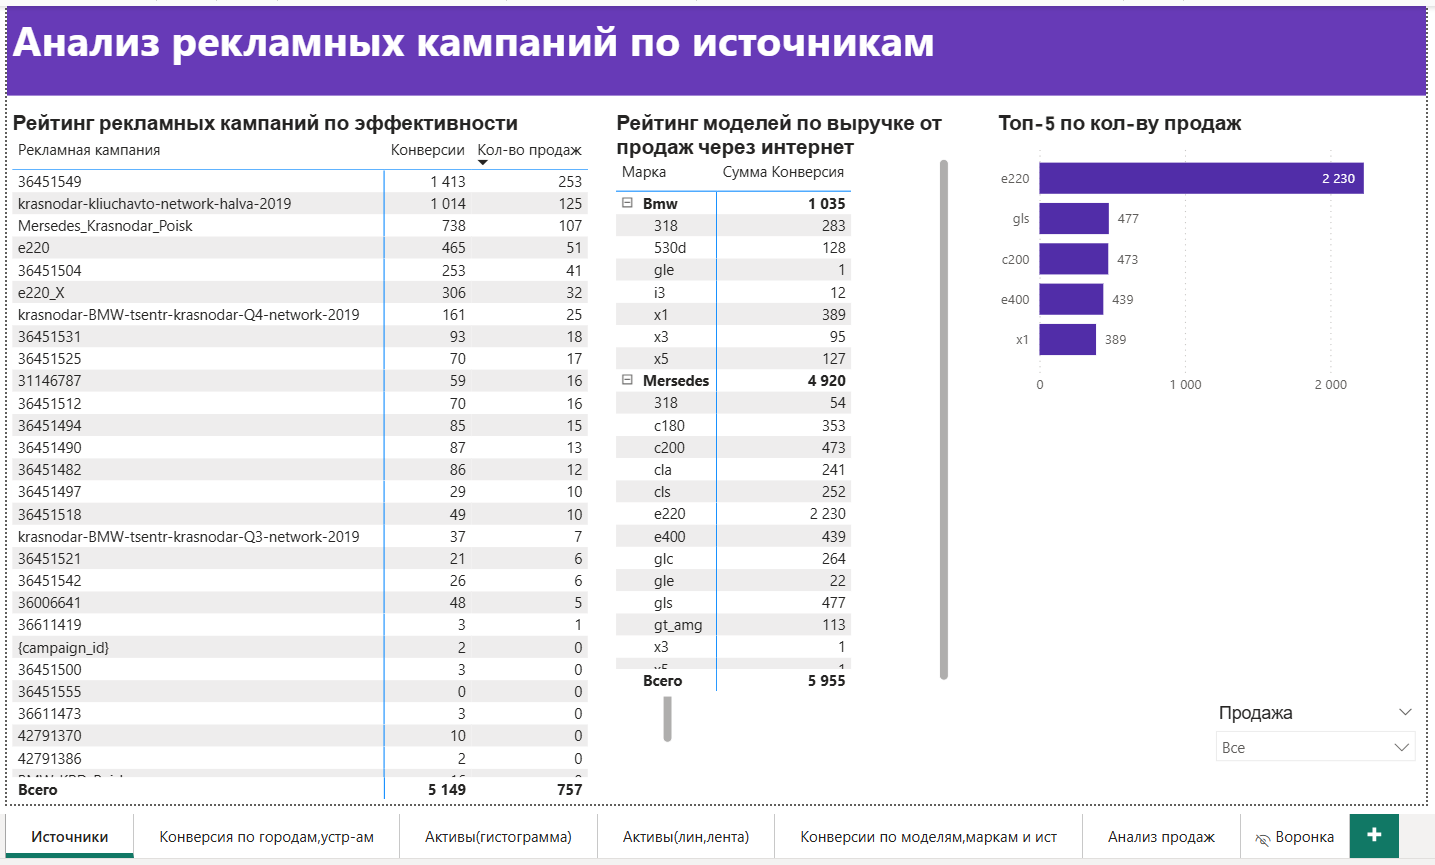

The page's visual inventory and layout, read from the dashboard file:
{"tool":"powerbi","page":{"name":"Источники","canvas":[1280,720],"ordinal":0},"visuals":[{"type":"pivotTable","title":"Рейтинг рекламных кампаний по эффективности","fields":{"Rows":["Маркетинговые данные.Рекламная кампания"],"Values":["Sum(Маркетинговые данные.Конверсия)","Данные из CRM.Кол-во продаж"]},"box":[0,94.2,605.3,626.1],"z":0},{"type":"slicer","fields":{"Values":["Данные из CRM.Продажа"]},"box":[1079.9,623,200.3,97.4],"z":1000},{"type":"pivotTable","title":"Рейтинг моделей по выручке от продаж через интернет","fields":{"Rows":["Маркетинговые данные.Марка","Маркетинговые данные.Модель"],"Values":["Sum(Маркетинговые данные.Конверсия)"]},"box":[544.8,94.7,310.1,528.3],"z":2000},{"type":"barChart","title":"Топ-5 по кол-ву продаж","fields":{"Category":["Маркетинговые данные.Модель"],"Y":["Sum(Маркетинговые данные.Конверсия)"]},"box":[887.8,94.7,392.5,264.8],"z":3000},{"type":"textbox","box":[0,0,1280.3,81],"z":4000}]}

Visuals, with their boxes on the page's 1280x720 design canvas (x1, y1, x2, y2). These are canvas units, not pixel positions in the 1435x865 screenshot, which may show the page scaled, cropped or inside an application window:
"Рейтинг рекламных кампаний по эффективности" pivotTable: left=0, top=94, right=605, bottom=720
slicer - Данные из CRM.Продажа: left=1080, top=623, right=1280, bottom=720
"Рейтинг моделей по выручке от продаж через интернет" pivotTable: left=545, top=95, right=855, bottom=623
"Топ-5 по кол-ву продаж" barChart: left=888, top=95, right=1280, bottom=360
textbox: left=0, top=0, right=1280, bottom=81
